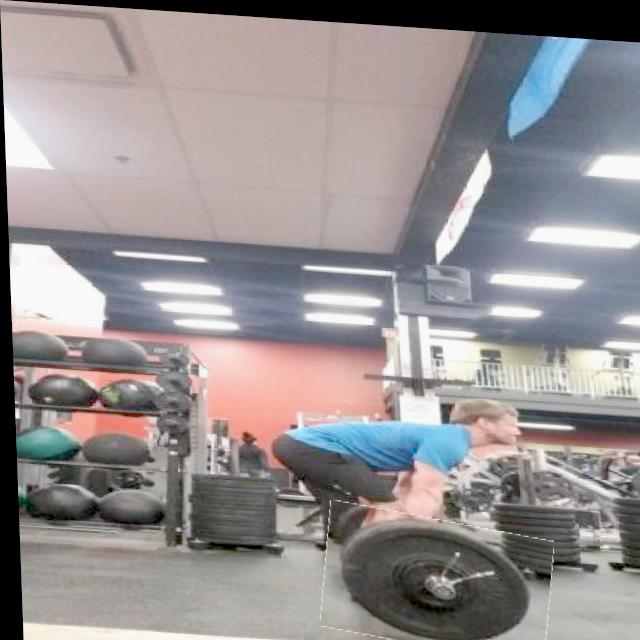barbell: (317, 502, 552, 640)
